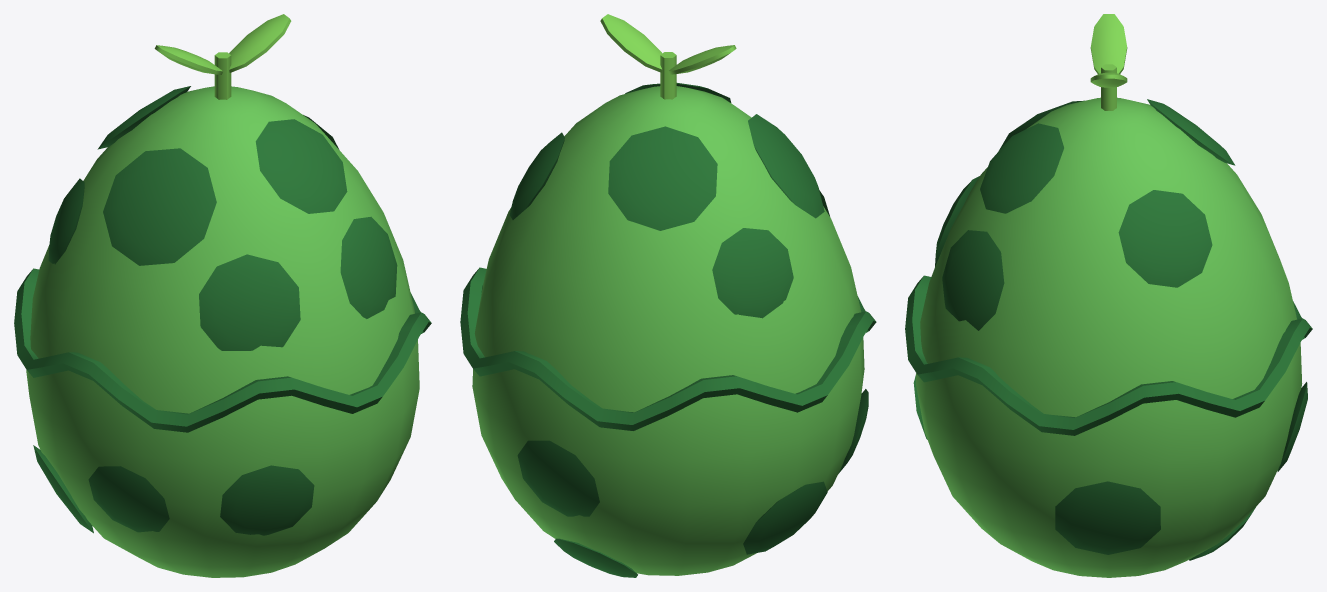
The model's file is egg-jungle.glb.
The picture shows the model from 3 angles, left to right: view 1: azimuth 30°, elevation 25°; view 2: azimuth 150°, elevation 25°; view 3: azimuth 270°, elevation 25°; orthographic projection. The views are drawn at different scales.
Parts seen in each view (by area): view 1: EggJungle_Shell, EggJungle_Pattern, EggJungle_Sprout; view 2: EggJungle_Shell, EggJungle_Pattern, EggJungle_Sprout; view 3: EggJungle_Shell, EggJungle_Pattern, EggJungle_Sprout.
Part boxes in pixels (x1=…): EggJungle_Shell: x1=26, y1=86, x2=419, y2=577; EggJungle_Pattern: x1=14, y1=86, x2=431, y2=535; EggJungle_Sprout: x1=154, y1=14, x2=291, y2=99; EggJungle_Shell: x1=472, y1=86, x2=864, y2=575; EggJungle_Pattern: x1=460, y1=83, x2=876, y2=577; EggJungle_Sprout: x1=600, y1=14, x2=736, y2=99; EggJungle_Shell: x1=915, y1=97, x2=1302, y2=577; EggJungle_Pattern: x1=905, y1=99, x2=1312, y2=560; EggJungle_Sprout: x1=1090, y1=14, x2=1127, y2=110.
Bounding box in the file's own units: 2.77 × 3.87 × 2.77.
